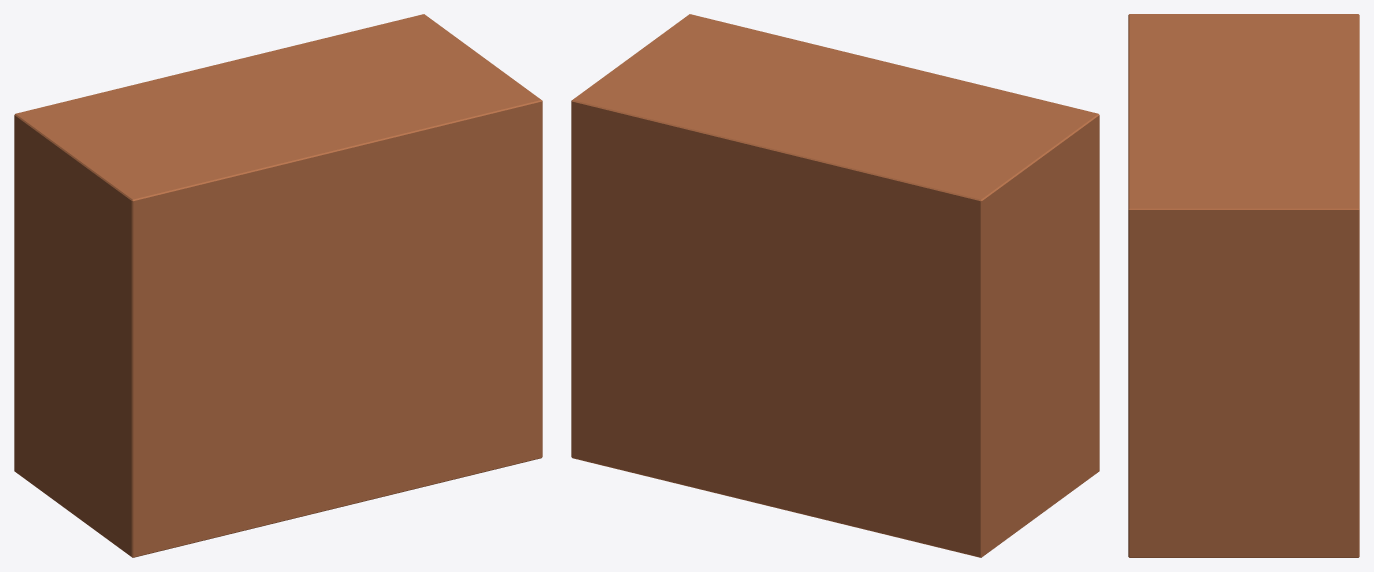
File: supply_calibration_copper_stock.glb
3 views of the same model, side by side, from view 1: azimuth 30°, elevation 25°; view 2: azimuth 150°, elevation 25°; view 3: azimuth 270°, elevation 25° (orthographic). The views are drawn at different scales.
Parts seen in each view (by area): view 1: unmachined_copper_block; view 2: unmachined_copper_block; view 3: unmachined_copper_block.
Part boxes in pixels (<box>): unmachined_copper_block: <box>14,14,542,557</box>; unmachined_copper_block: <box>571,14,1099,557</box>; unmachined_copper_block: <box>1128,14,1359,557</box>.
Bounding box in the file's own units: 0.06 × 0.05 × 0.03.
